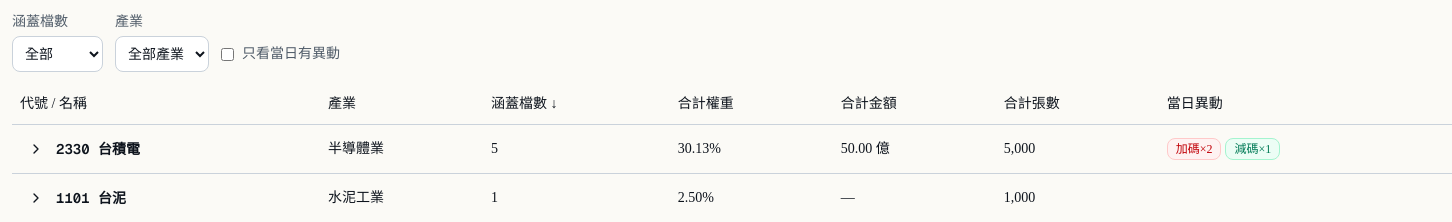
it: CrossHoldingsTable › 獨門篩選只留涵蓋檔數 1 的列
Select "獨門(=1)" in the dropdown labelled "涵蓋檔數" at (58, 54), box x1=12 y1=36 x2=103 y2=72
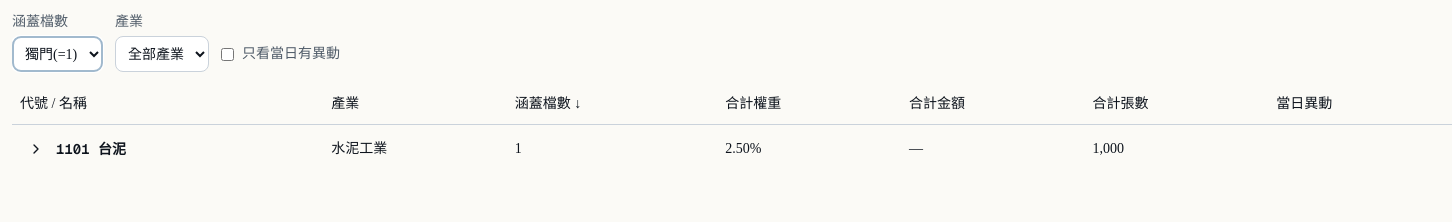
Expected: the text "1101 台泥" is shown, x1=56 y1=138 x2=126 y2=158
Expected: the link "台積電" is gone
